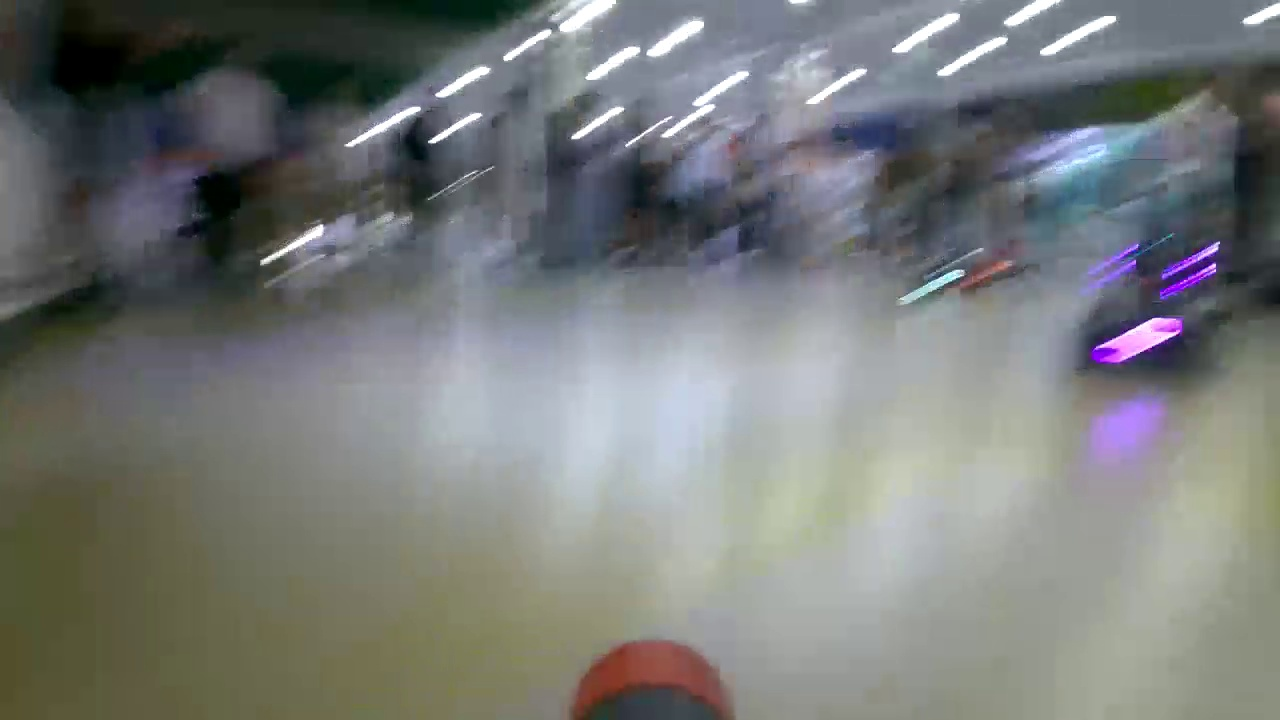robot: (1076, 238, 1232, 378), (893, 254, 970, 310), (962, 246, 1036, 301)
